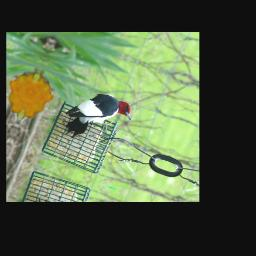Woodpecker: (57, 84, 137, 155)
